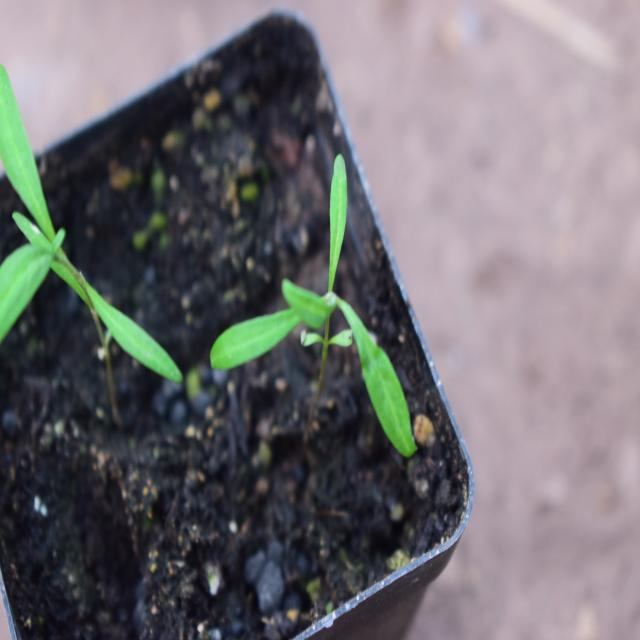white_smart_weed: (198, 136, 472, 463), (0, 87, 198, 416)
